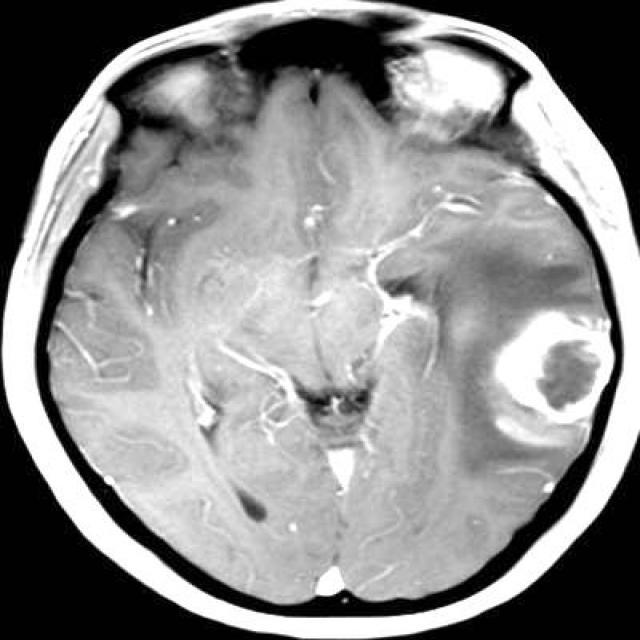tumor: (493, 312, 614, 429)
